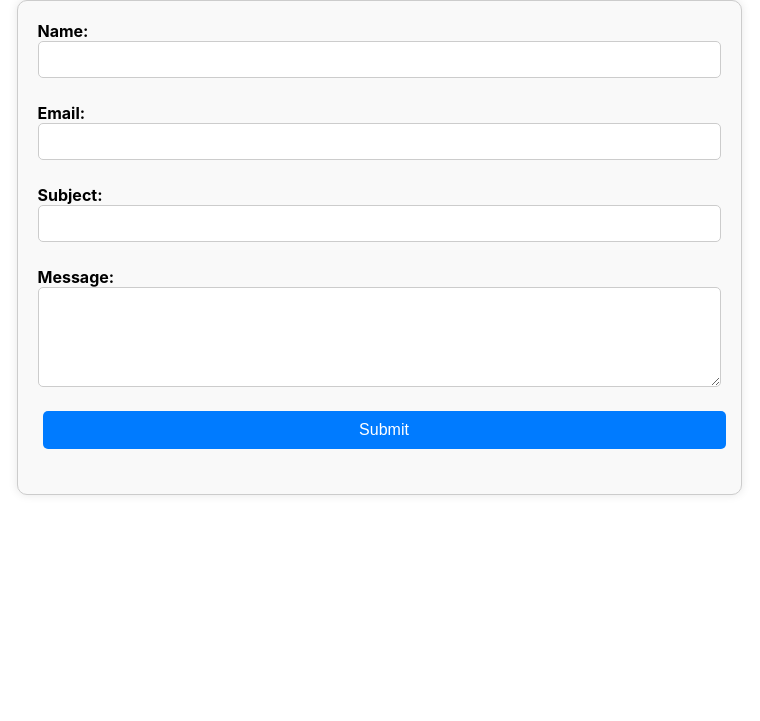
Test case: ContactUs Component › displays validation errors for invalid field inputs
enter invalid values
Step 1. Type "Jo" into the field labelled "Name:" → {"x": 379, "y": 60}, box [38, 41, 720, 78]
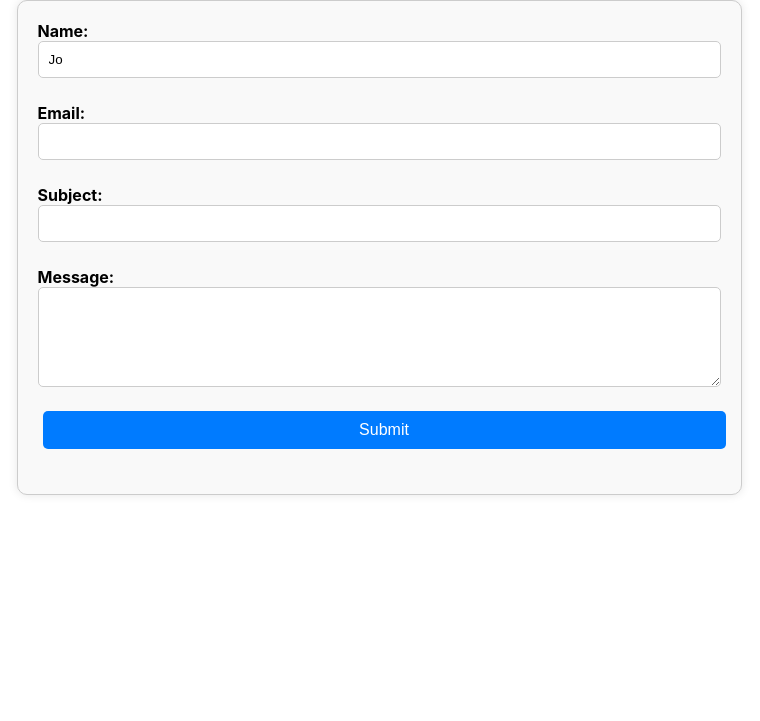
Step 2. Type "invalid-email@aa" into the field labelled "Email:" → {"x": 379, "y": 142}, box [38, 123, 720, 160]
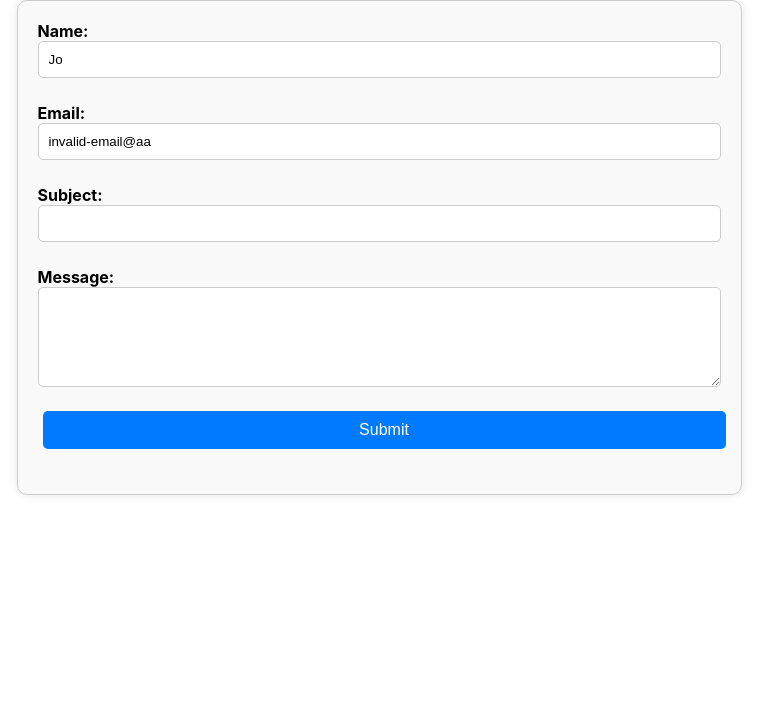
Step 3. Type "nil" into the text box labelled "Message:" → {"x": 379, "y": 337}, box [38, 287, 720, 387]
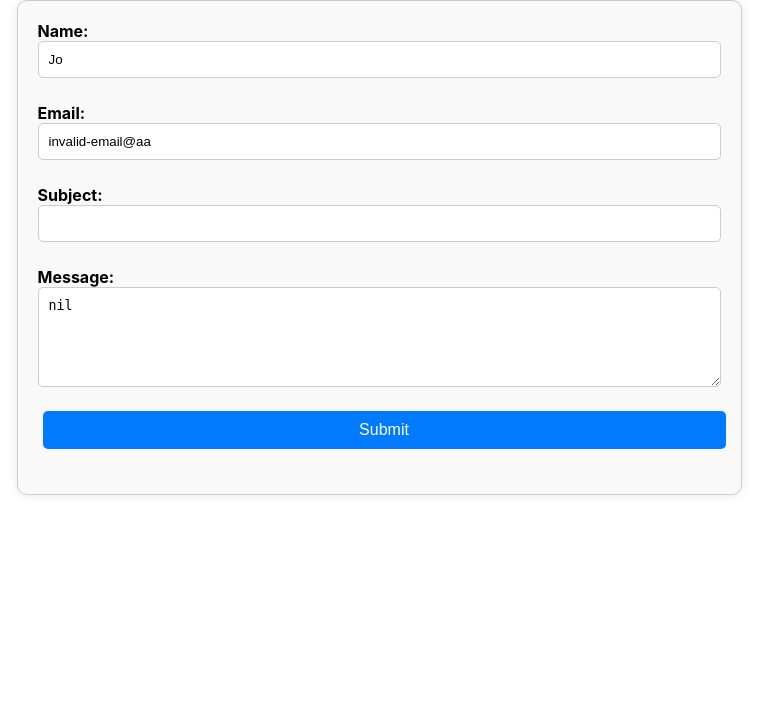
click submit button
Step 4. Click the button "Submit" → {"x": 384, "y": 430}, box [42, 411, 726, 449]
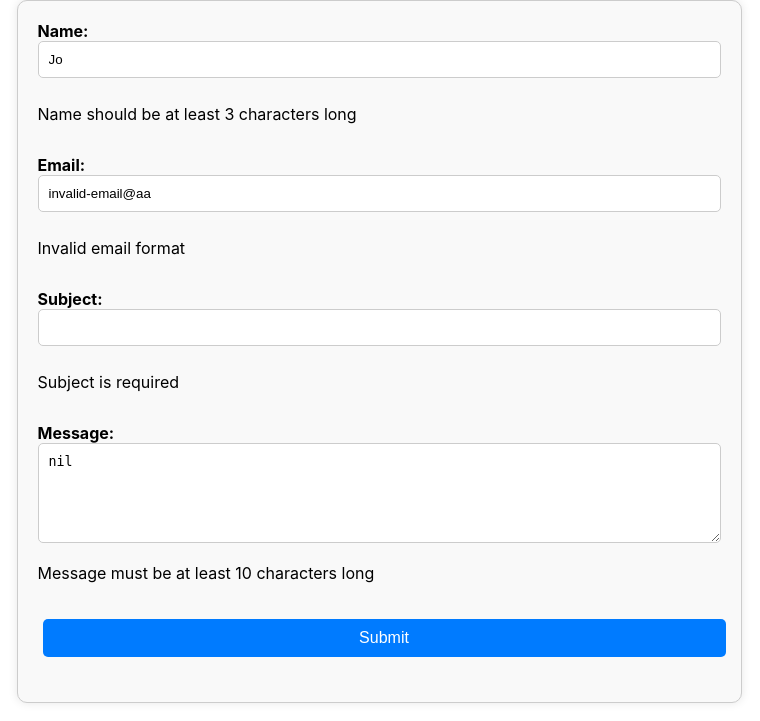
expect the text "Name should be at least 3 characters long" is shown: met, box [38, 104, 357, 124]
expect the text "Invalid email format" is shown: met, box [38, 238, 185, 258]
expect the text "Message must be at least 10 characters long" is shown: met, box [38, 563, 374, 583]
